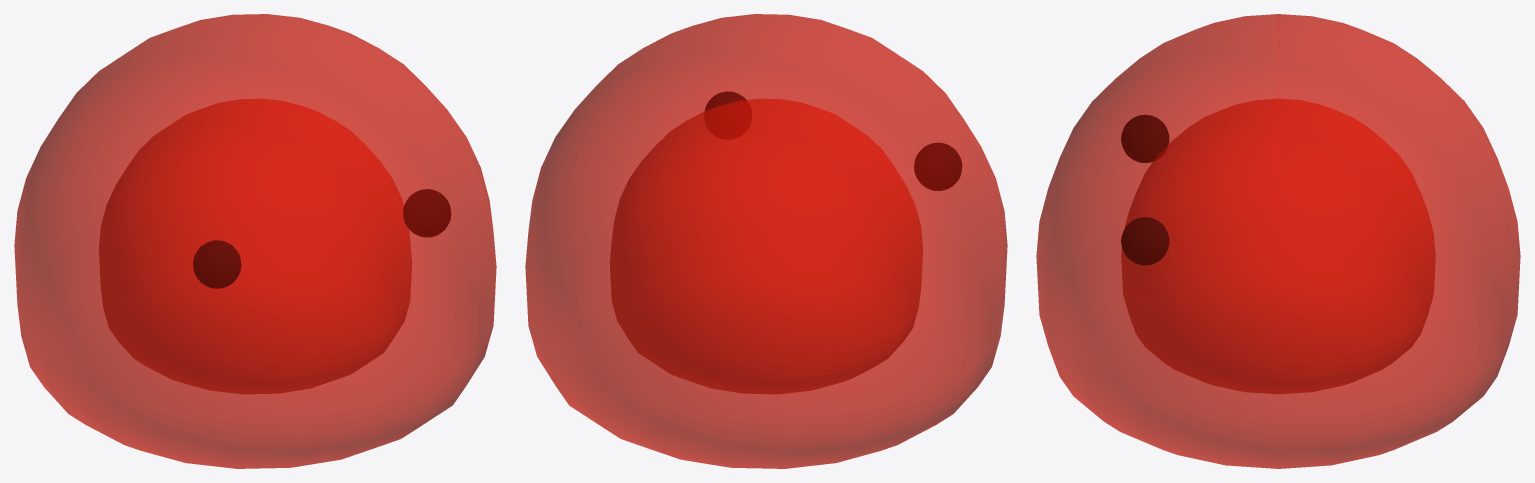
File: Red Slime.fbx
The picture shows the model from 3 angles, left to right: view 1: azimuth 30°, elevation 25°; view 2: azimuth 150°, elevation 25°; view 3: azimuth 270°, elevation 25°; orthographic projection.
Visible parts, largest first — view 1: Outside.001, Inside.001, Right_eye.001, Left_eye.001; view 2: Outside.001, Inside.001, Left_eye.001; view 3: Outside.001, Inside.001, Right_eye.001, Left_eye.001.
Boxes of the visible parts, x1,y1,x2,y2 form: Outside.001: (14,14,496,468); Inside.001: (99,99,411,393); Right_eye.001: (403,189,451,237); Left_eye.001: (193,240,241,288); Outside.001: (525,14,1007,468); Inside.001: (610,99,922,393); Left_eye.001: (914,142,962,190); Outside.001: (1036,14,1520,468); Inside.001: (1121,99,1435,393); Right_eye.001: (1121,217,1169,265); Left_eye.001: (1121,114,1169,162).
Bounding box in the file's own units: 100 × 89.58 × 100.
